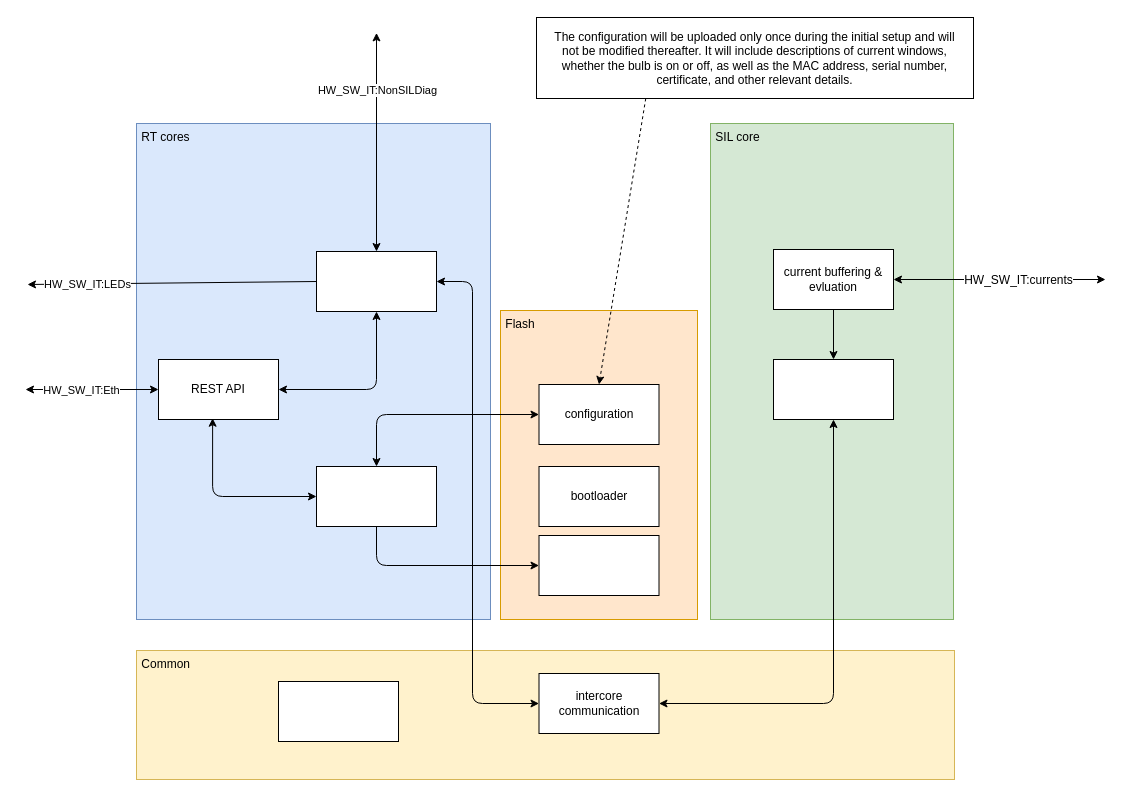
Some shapes in this 1132 by 797 pixel diagram are drawn without their labels. Each missing label, with the centre of its shape:
diagnostic: [376,281]
registers access, common addres, ...: [338,711]
state evaluate: [833,389]
sw: [598,565]
SW update: [376,496]
